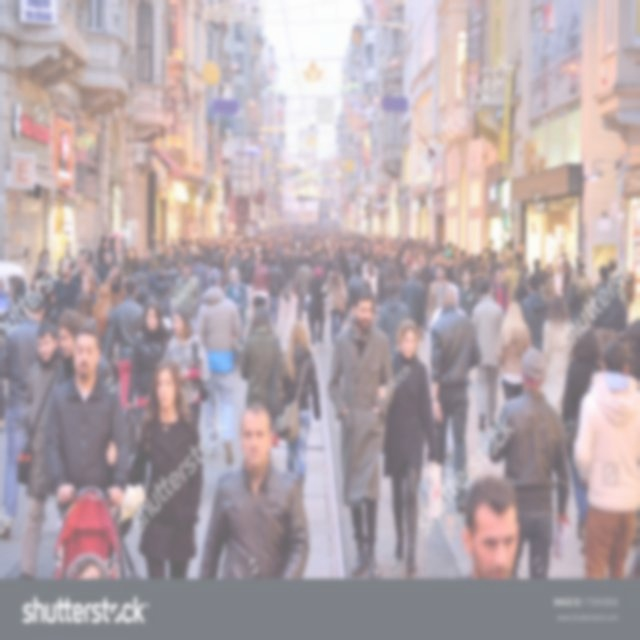pessoa: (106, 356, 205, 579), (328, 284, 396, 582), (198, 404, 310, 582), (127, 220, 478, 274), (488, 347, 568, 580), (372, 319, 439, 580), (44, 323, 131, 514), (572, 340, 640, 580), (426, 286, 483, 516), (17, 320, 67, 582), (0, 292, 49, 540), (193, 266, 244, 466), (561, 326, 603, 542), (427, 282, 472, 462), (280, 320, 322, 500), (461, 475, 522, 580), (240, 304, 286, 432), (540, 294, 577, 452), (164, 307, 212, 428), (106, 276, 146, 414), (124, 300, 168, 424), (53, 309, 117, 390), (472, 278, 504, 431), (496, 300, 532, 402), (591, 264, 625, 352), (377, 280, 411, 362), (520, 272, 551, 356), (225, 267, 249, 372), (61, 548, 111, 591), (345, 258, 376, 326), (92, 284, 116, 366), (399, 264, 427, 334), (326, 260, 348, 347), (592, 256, 628, 309), (242, 294, 278, 346), (306, 266, 329, 346), (172, 258, 201, 320), (566, 260, 592, 328), (52, 256, 81, 316), (131, 257, 173, 298), (428, 262, 453, 328), (620, 308, 640, 386), (32, 278, 63, 328), (294, 254, 316, 323), (565, 252, 593, 306), (0, 274, 16, 354), (268, 255, 285, 328), (71, 254, 100, 296), (619, 270, 638, 334), (417, 251, 432, 332), (490, 262, 510, 319), (456, 269, 478, 320), (189, 252, 209, 306), (148, 266, 170, 314), (502, 251, 521, 306), (252, 256, 272, 307), (105, 260, 126, 308), (238, 248, 254, 310), (279, 247, 295, 308), (74, 271, 99, 309), (380, 264, 402, 306), (133, 272, 158, 308), (75, 291, 97, 329), (513, 258, 530, 306), (6, 266, 27, 302), (58, 240, 76, 280), (33, 248, 55, 280), (294, 254, 304, 322), (620, 546, 640, 580), (81, 247, 101, 281), (226, 245, 242, 286), (204, 256, 223, 290), (362, 260, 378, 300), (337, 249, 351, 293), (378, 254, 396, 288), (100, 248, 116, 286), (429, 251, 449, 281), (556, 250, 577, 278), (538, 268, 556, 300), (560, 258, 573, 302), (86, 257, 102, 292), (226, 244, 240, 284), (152, 242, 170, 273), (165, 256, 182, 288), (452, 244, 468, 278), (176, 240, 194, 270), (33, 259, 52, 285), (552, 256, 564, 297), (316, 246, 329, 280), (326, 248, 338, 283), (96, 234, 108, 268), (126, 246, 139, 277), (348, 245, 361, 275), (481, 259, 497, 283), (210, 246, 226, 270), (426, 256, 436, 294), (289, 244, 300, 278), (272, 240, 284, 270), (362, 254, 378, 276), (398, 255, 410, 284), (151, 240, 161, 272), (302, 246, 316, 268), (253, 250, 268, 270), (513, 240, 526, 263), (446, 254, 456, 282), (109, 236, 118, 266), (204, 237, 212, 266), (485, 238, 495, 260), (469, 253, 479, 275), (167, 237, 178, 257), (546, 263, 555, 287), (191, 246, 201, 266), (167, 244, 175, 268), (532, 258, 542, 277), (444, 242, 454, 258), (461, 253, 471, 268), (403, 264, 412, 280), (488, 250, 498, 264), (142, 248, 153, 258), (196, 238, 203, 253), (475, 254, 483, 267), (482, 248, 488, 260)
